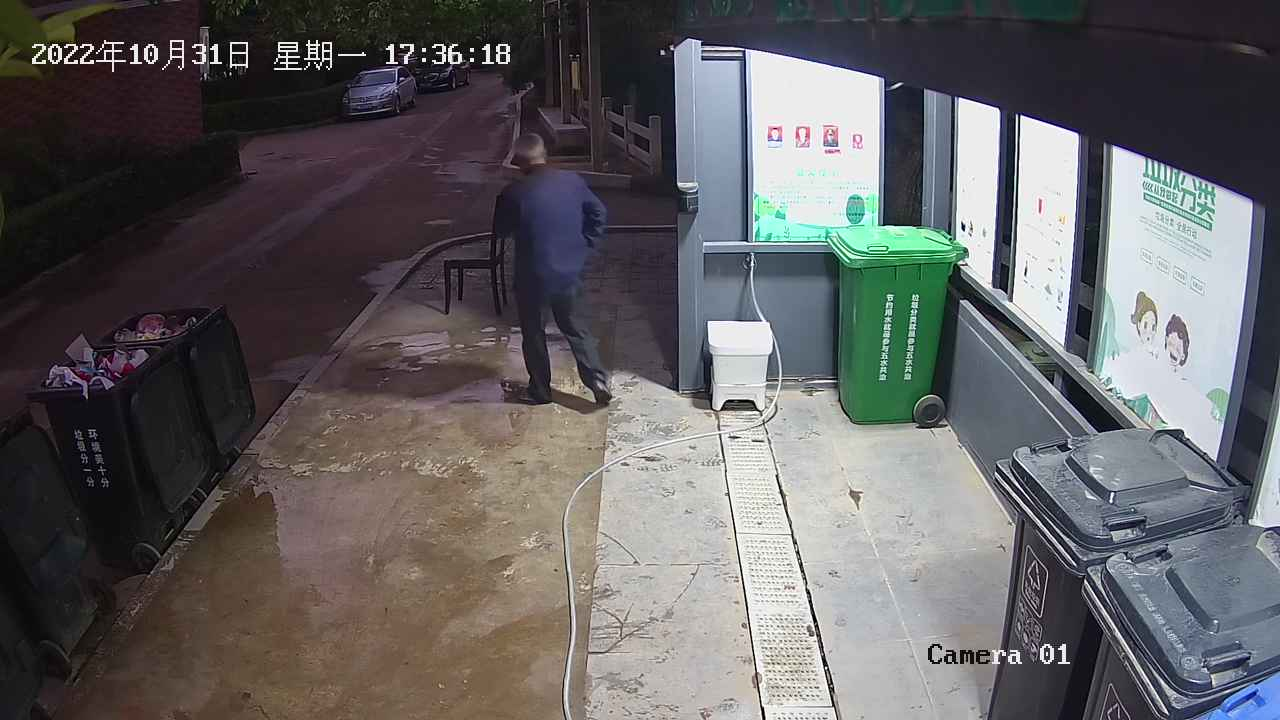person: (489, 131, 614, 410)
